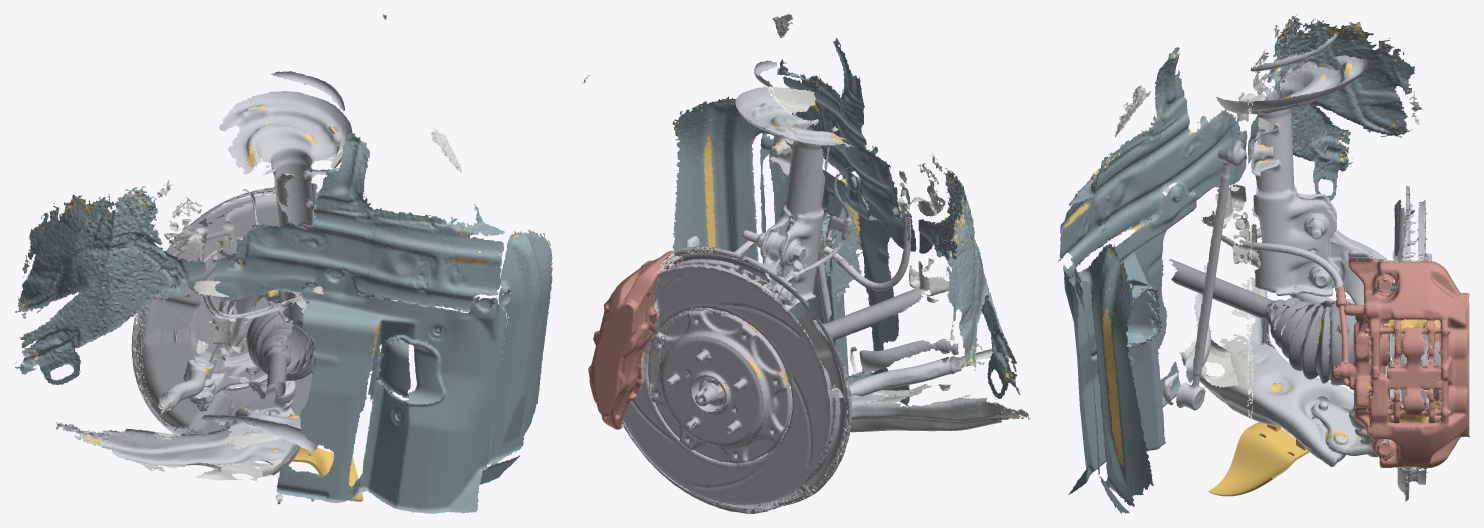
File: v2a-context.glb
3 views of the same model, side by side, from view 1: azimuth 30°, elevation 25°; view 2: azimuth 150°, elevation 25°; view 3: azimuth 270°, elevation 25° (orthographic). The views are drawn at different scales.
Visible parts, largest first — view 1: panel_formed — captured scan (display), context_remainder — captured scan (display), panel_textured — captured scan (display), shield — captured scan (display), surrounding — captured scan (display), cv_axle — captured scan (display), rotor_retained_remainder — captured scan (display), captured_rotor_front_partial — captured scan (display), curved_member — captured scan (display), part, upper_round_segment — captured scan (display); view 2: panel_formed — captured scan (display), context_remainder — captured scan (display), captured_rotor_front_partial — captured scan (display), rotor_retained_remainder — captured scan (display), caliper — captured scan (display), panel_textured — captured scan (display), shield — captured scan (display), surrounding — captured scan (display), cv_axle — captured scan (display), curved_member — captured scan (display), panel_formed — inferred fill (display), unresolved_seams_remainder — captured scan (display) (+1 smaller); view 3: panel_formed — captured scan (display), context_remainder — captured scan (display), caliper — captured scan (display), panel_textured — captured scan (display), cv_axle — captured scan (display), surrounding — captured scan (display), part, slender_link — captured scan (display), panel_formed — inferred fill (display), rotor_retained_remainder — captured scan (display), shield — captured scan (display), caliper — inferred fill (display) (+3 smaller).
Part boxes in pixels (bbox=[...]): panel_formed — captured scan (display): bbox=[213, 133, 552, 513]; context_remainder — captured scan (display): bbox=[55, 91, 352, 466]; panel_textured — captured scan (display): bbox=[14, 186, 207, 384]; shield — captured scan (display): bbox=[131, 186, 315, 434]; surrounding — captured scan (display): bbox=[22, 128, 462, 504]; cv_axle — captured scan (display): bbox=[246, 311, 314, 395]; rotor_retained_remainder — captured scan (display): bbox=[137, 194, 301, 388]; captured_rotor_front_partial — captured scan (display): bbox=[144, 195, 267, 412]; curved_member — captured scan (display): bbox=[199, 414, 318, 451]; part: bbox=[292, 447, 363, 501]; upper_round_segment — captured scan (display): bbox=[270, 71, 344, 110]; panel_formed — captured scan (display): bbox=[672, 38, 916, 406]; context_remainder — captured scan (display): bbox=[622, 87, 1029, 462]; captured_rotor_front_partial — captured scan (display): bbox=[623, 267, 829, 505]; rotor_retained_remainder — captured scan (display): bbox=[633, 259, 840, 506]; caliper — captured scan (display): bbox=[588, 244, 700, 429]; panel_textured — captured scan (display): bbox=[918, 168, 1020, 398]; shield — captured scan (display): bbox=[622, 246, 852, 513]; surrounding — captured scan (display): bbox=[771, 14, 992, 403]; cv_axle — captured scan (display): bbox=[747, 289, 923, 379]; curved_member — captured scan (display): bbox=[859, 338, 958, 372]; panel_formed — inferred fill (display): bbox=[673, 41, 900, 248]; unresolved_seams_remainder — captured scan (display): bbox=[620, 88, 966, 439]; panel_formed — captured scan (display): bbox=[1058, 47, 1247, 513]; context_remainder — captured scan (display): bbox=[1251, 55, 1429, 469]; caliper — captured scan (display): bbox=[1333, 257, 1469, 468]; panel_textured — captured scan (display): bbox=[1248, 14, 1414, 200]; cv_axle — captured scan (display): bbox=[1169, 259, 1359, 385]; surrounding — captured scan (display): bbox=[1114, 23, 1421, 417]; part: bbox=[1208, 422, 1309, 496]; slender_link — captured scan (display): bbox=[1176, 142, 1246, 410]; panel_formed — inferred fill (display): bbox=[1063, 54, 1245, 483]; rotor_retained_remainder — captured scan (display): bbox=[1401, 200, 1441, 484]; shield — captured scan (display): bbox=[1388, 186, 1417, 501]; caliper — inferred fill (display): bbox=[1334, 319, 1440, 446].
Bounding box in the file's own units: 0.7134 × 0.6211 × 0.5162.
